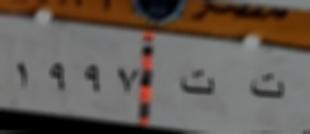1: (11, 55, 33, 95)
7: (110, 60, 140, 97)
9: (77, 60, 104, 102), (42, 59, 68, 95)
taa: (175, 64, 220, 100), (246, 69, 289, 102)
